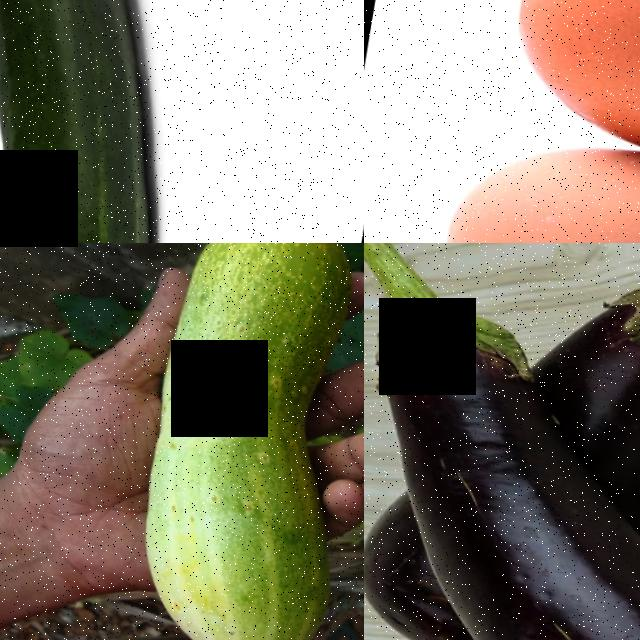cucumber: (105, 243, 364, 640), (0, 0, 230, 243)
egg_: (416, 100, 640, 243), (489, 0, 640, 210)
eggplant: (364, 283, 576, 560), (446, 494, 640, 640), (536, 243, 640, 502)
